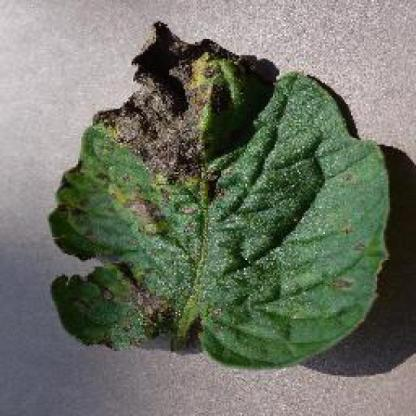Tomato_Blight: (49, 24, 389, 363)
